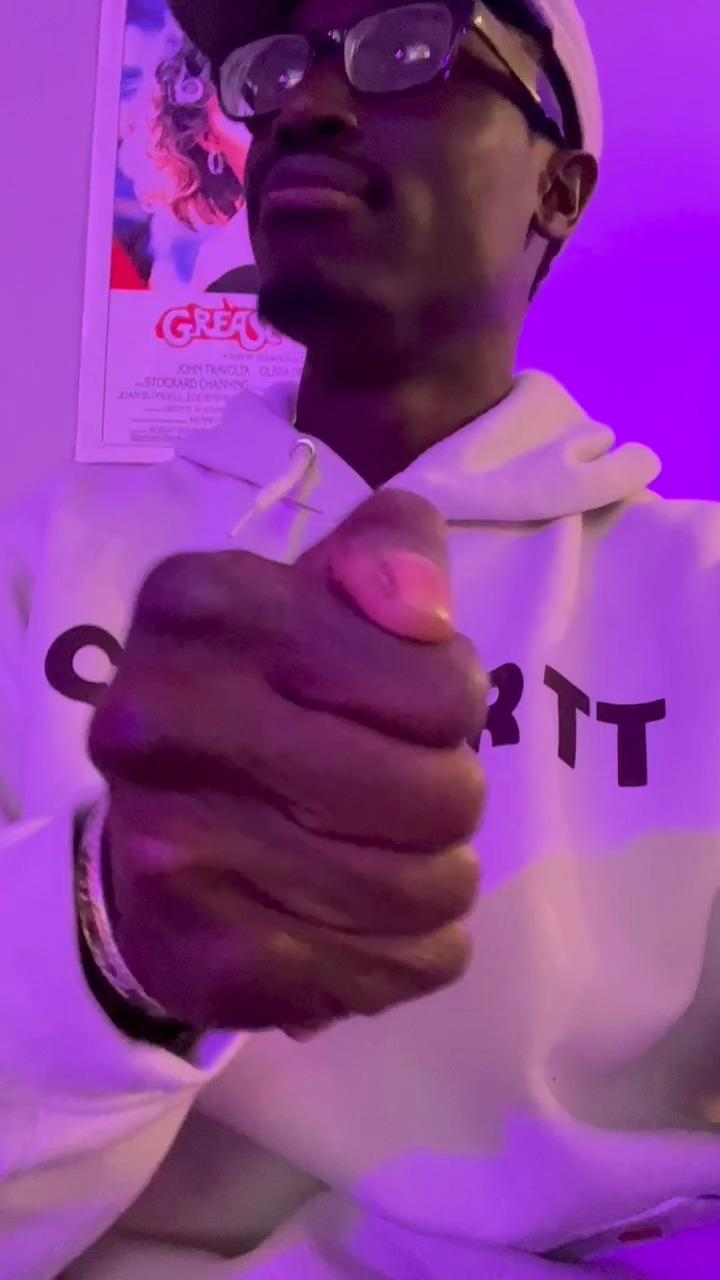Rock: (82, 488, 498, 1023)
